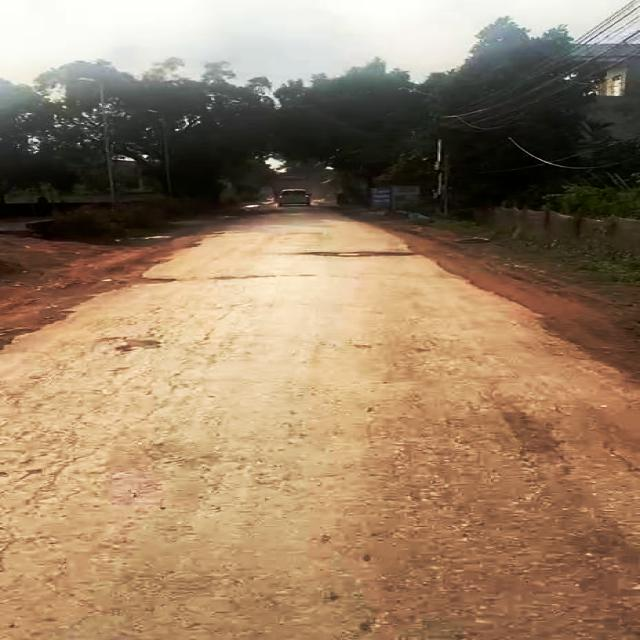pothole: (300, 243, 416, 260)
